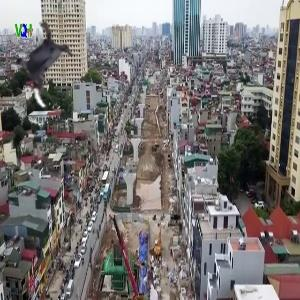drone: (2, 20, 89, 107)
